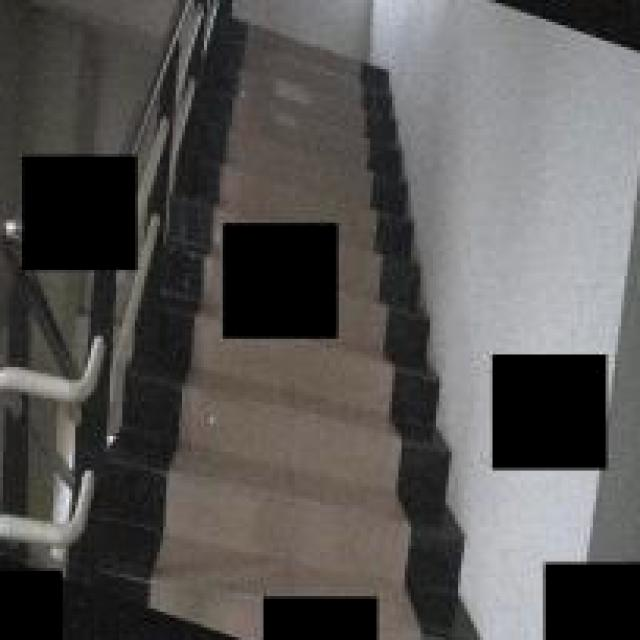upstair: (211, 1, 418, 224)
